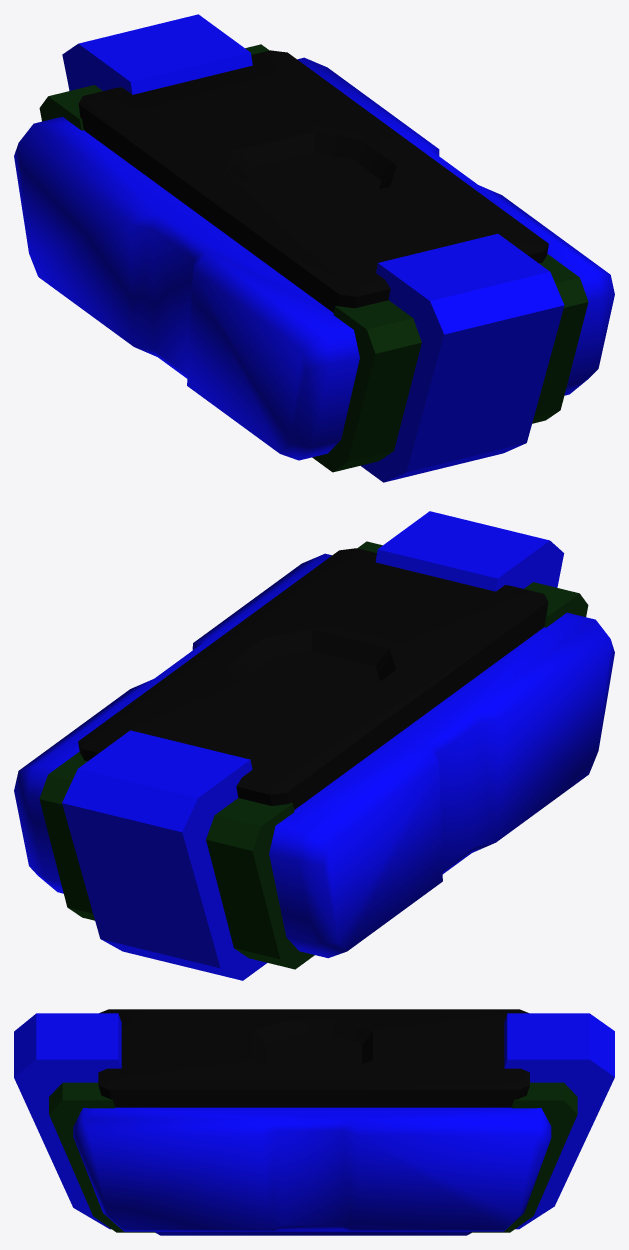
Rendered from 3D_CannonTriple_Frame_MESH.fbx.
3 views of the same model, one above another, from view 1: azimuth 30°, elevation 25°; view 2: azimuth 150°, elevation 25°; view 3: azimuth 270°, elevation 25° (orthographic). The views are drawn at different scales.
Visible parts, largest first — view 1: 3D_CannonTriple_Frame_MESH; view 2: 3D_CannonTriple_Frame_MESH; view 3: 3D_CannonTriple_Frame_MESH.
Boxes of the visible parts, box(x1,y1,x2,y2) form: 3D_CannonTriple_Frame_MESH: box(14, 14, 614, 482); 3D_CannonTriple_Frame_MESH: box(14, 511, 614, 980); 3D_CannonTriple_Frame_MESH: box(14, 1009, 614, 1235).
Bounding box in the file's own units: 80.97 × 53.98 × 173.
